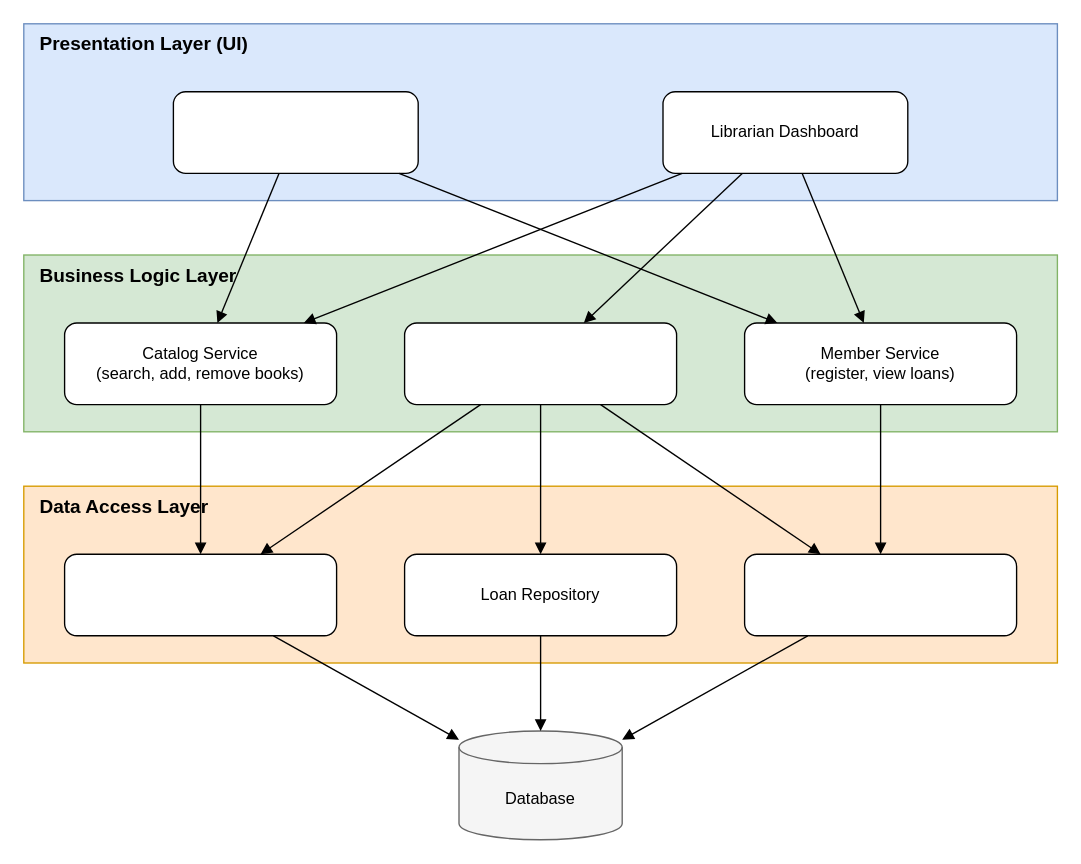
The diagram is 1081 pixels wide and 864 high, and some of its shapes have lost their labels. The centre of each missing label's shape, as x and y in pixels:
"Book Repository" belongs at point (200, 594).
"Loan Service (issue, return, overdue)" belongs at point (540, 363).
"Member Portal" belongs at point (295, 131).
"Member Repository" belongs at point (880, 594).
